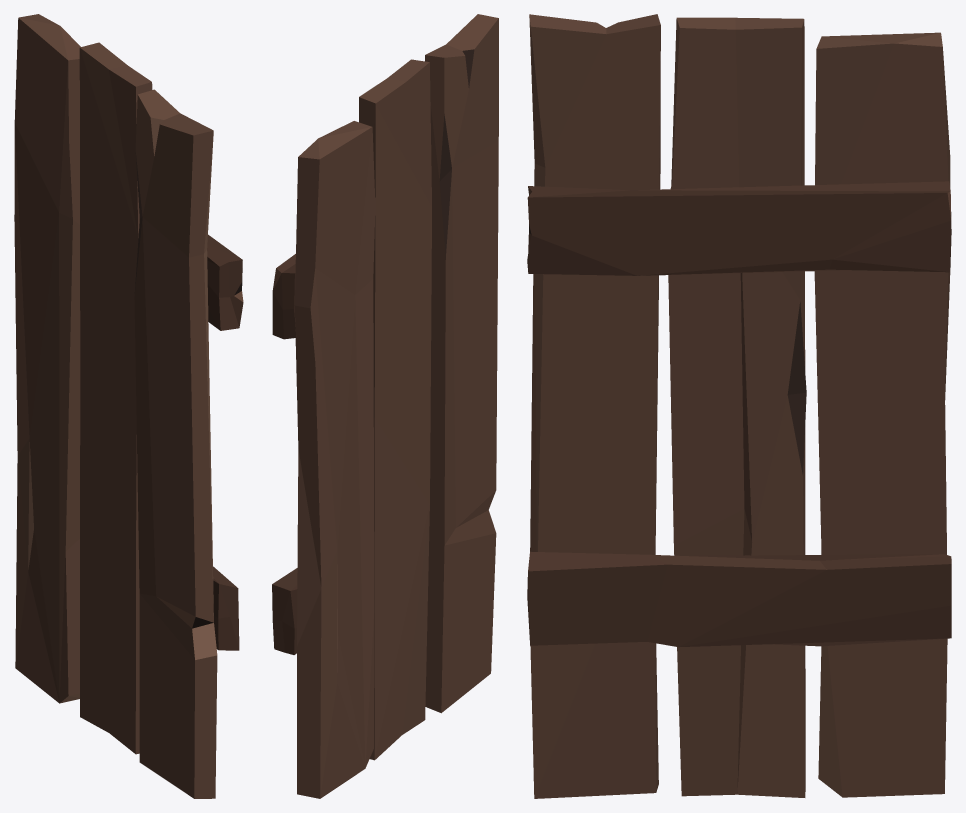
File: FenceWoodSmall_01.glb
The picture shows the model from 3 angles, left to right: view 1: azimuth 30°, elevation 25°; view 2: azimuth 150°, elevation 25°; view 3: azimuth 270°, elevation 25°; orthographic projection. The views are drawn at different scales.
Visible parts, largest first — view 1: FenceWoodSmall_01; view 2: FenceWoodSmall_01; view 3: FenceWoodSmall_01.
Boxes of the visible parts, box(x1,y1,x2,y2) form: FenceWoodSmall_01: box(14, 14, 243, 798); FenceWoodSmall_01: box(272, 14, 498, 798); FenceWoodSmall_01: box(527, 14, 951, 798).
Size of what is drawn, in the model's own units: 0.169 by 2.01 by 1.
Materials: 1 (1 with a texture image).
